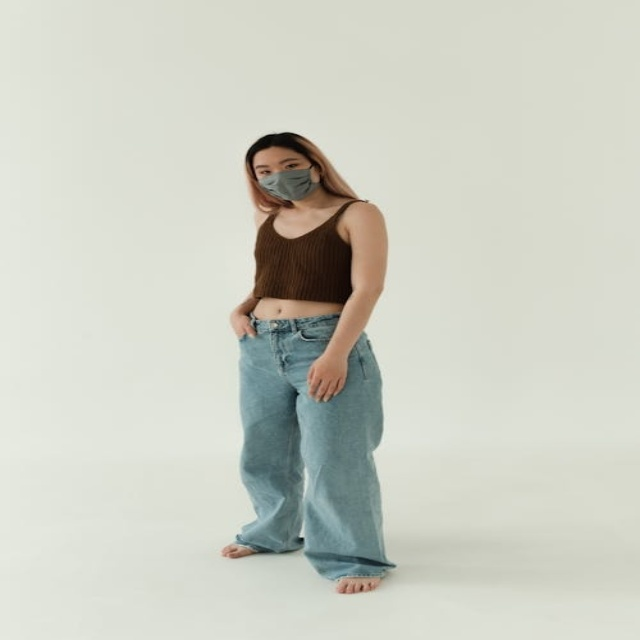Mascara: (258, 164, 319, 201)
Sin_gafas: (257, 156, 306, 174)
Sin_guantes: (301, 355, 351, 402), (225, 308, 260, 339)
